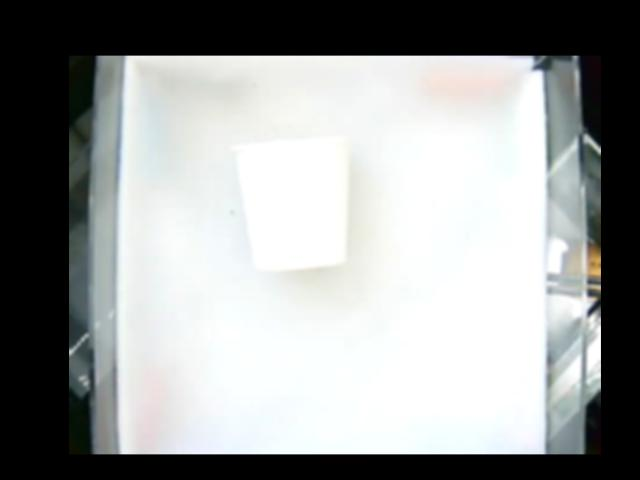Cup: (231, 136, 351, 271)
